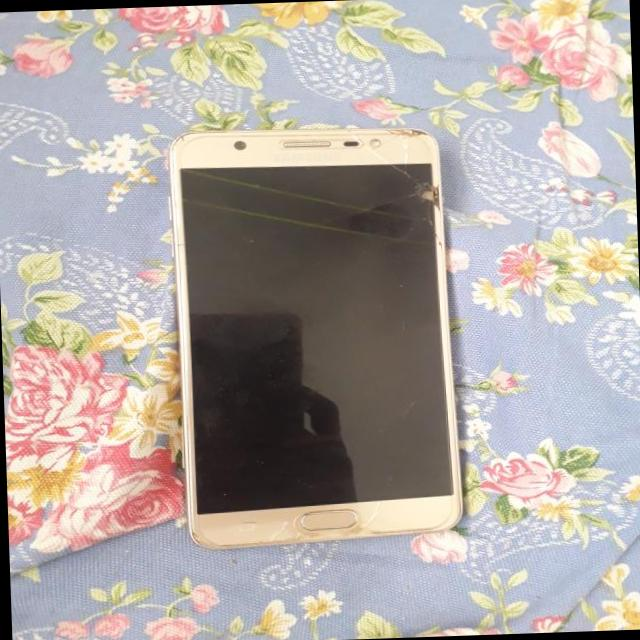screen crack: (178, 129, 467, 269)
